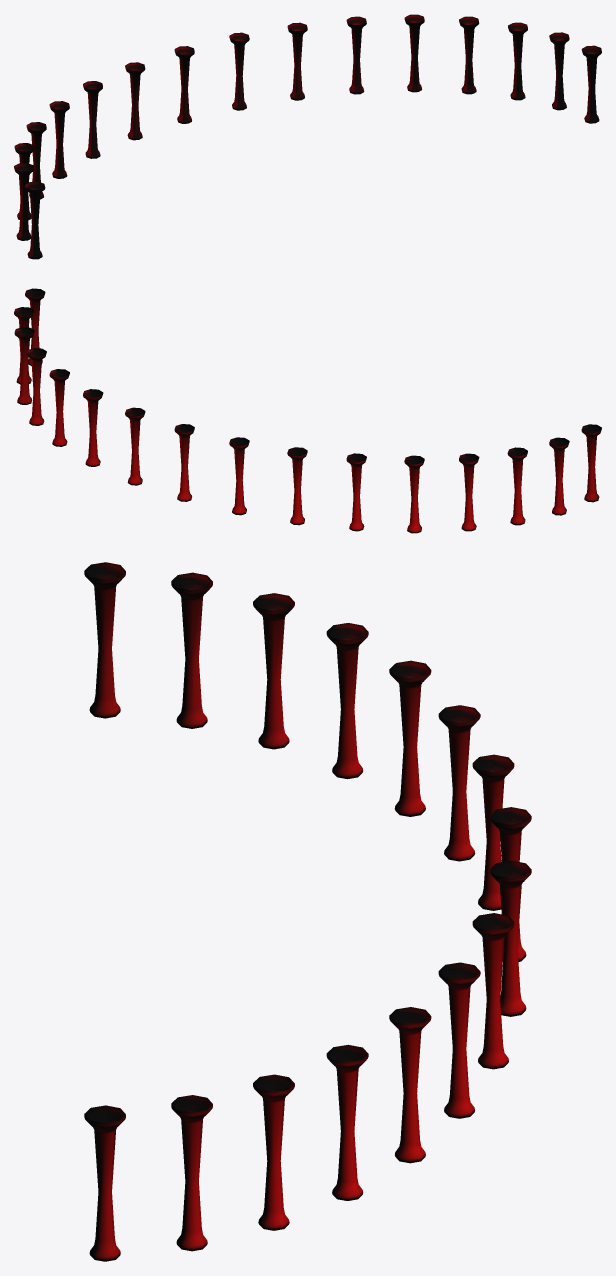
File: BalconySupports_export.obj
3 views of the same model, one above another, from view 1: azimuth 30°, elevation 25°; view 2: azimuth 150°, elevation 25°; view 3: azimuth 270°, elevation 25° (orthographic). The views are drawn at different scales.
Visible parts, largest first — view 1: BalconySupports; view 2: BalconySupports; view 3: BalconySupports.
Part boxes in pixels (x1,y1,x2,y2): BalconySupports: [14, 14, 601, 259]; BalconySupports: [14, 288, 601, 533]; BalconySupports: [84, 562, 531, 1261].
Size of the model in its own units: 8.86 by 1.04 by 2.99.
